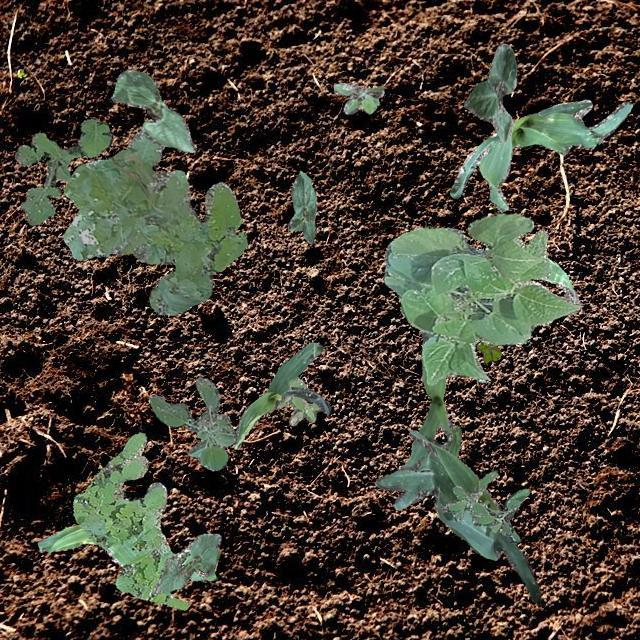crop: (382, 212, 582, 384), (374, 424, 540, 606), (448, 98, 632, 210), (232, 342, 330, 448), (36, 524, 216, 580), (110, 68, 196, 152), (401, 329, 452, 466), (462, 42, 516, 142), (153, 534, 220, 592), (286, 170, 316, 242), (544, 255, 578, 302)
weed: (62, 130, 246, 314), (72, 432, 195, 608), (13, 118, 112, 225), (148, 376, 234, 469), (444, 470, 528, 542), (276, 376, 320, 424), (333, 82, 383, 114), (476, 340, 500, 362)
